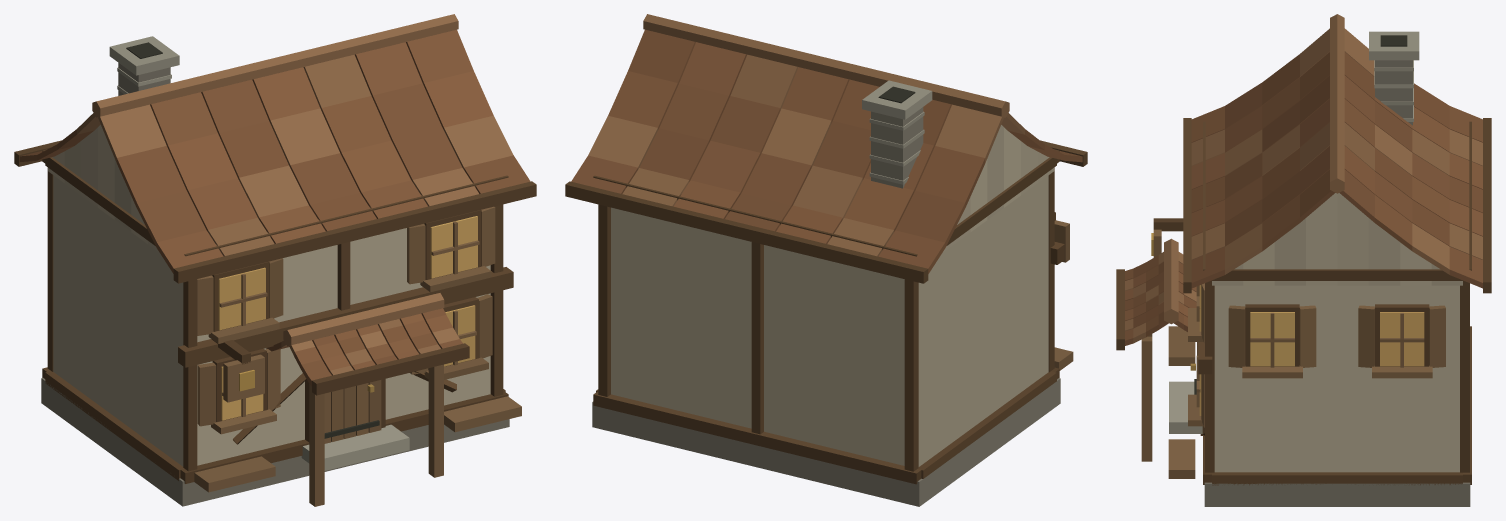
The model's file is roadside-inn.glb.
3 renders of one model, left to right at view 1: azimuth 30°, elevation 25°; view 2: azimuth 150°, elevation 25°; view 3: azimuth 270°, elevation 25°, orthographic. The views are drawn at different scales.
Parts seen in each view (by area): view 1: roadside-inn; view 2: roadside-inn; view 3: roadside-inn.
Boxes of the visible parts, x1,y1,x2,y2 form: roadside-inn: (14, 14, 536, 506); roadside-inn: (565, 14, 1087, 506); roadside-inn: (1116, 14, 1491, 506).
Size of the model in its own units: 4.8 by 4.7 by 4.63.
